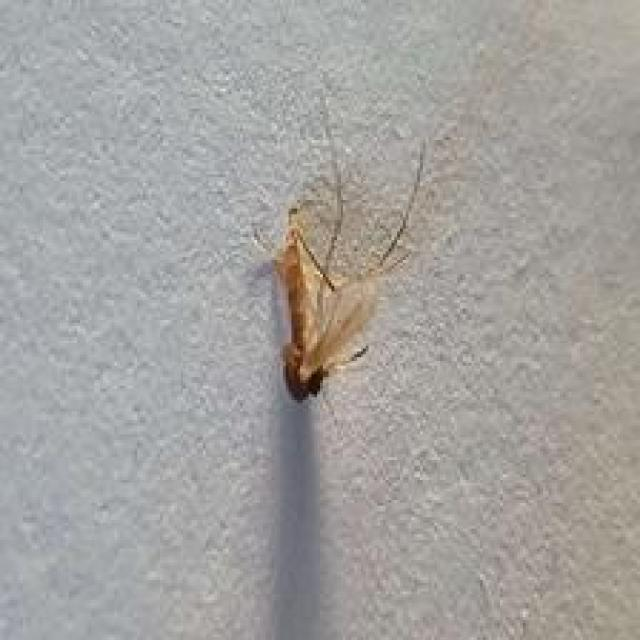Culex: (262, 82, 442, 404)
